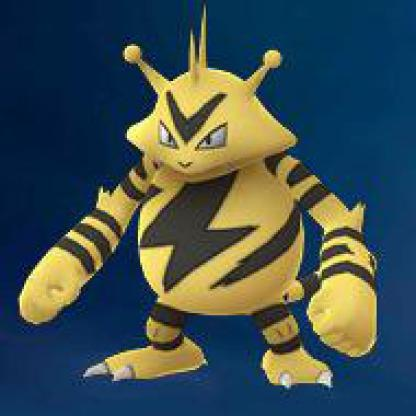Electabuzz: (3, 1, 415, 415), (3, 14, 415, 415)
